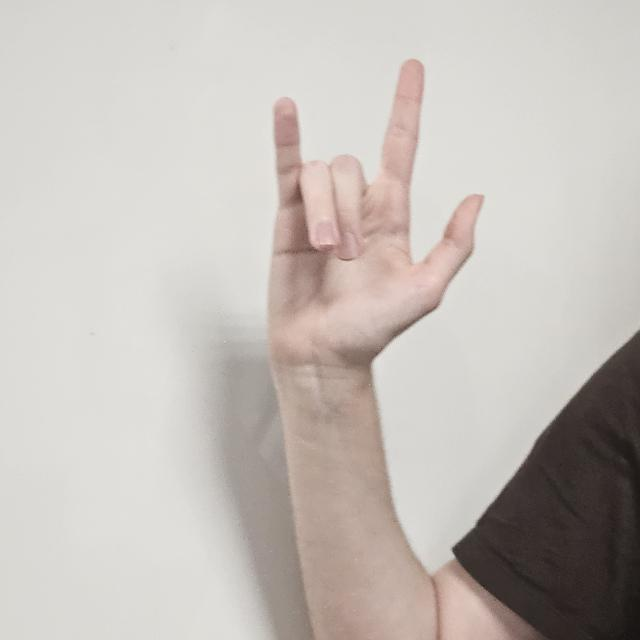Cima: (266, 60, 486, 368)
